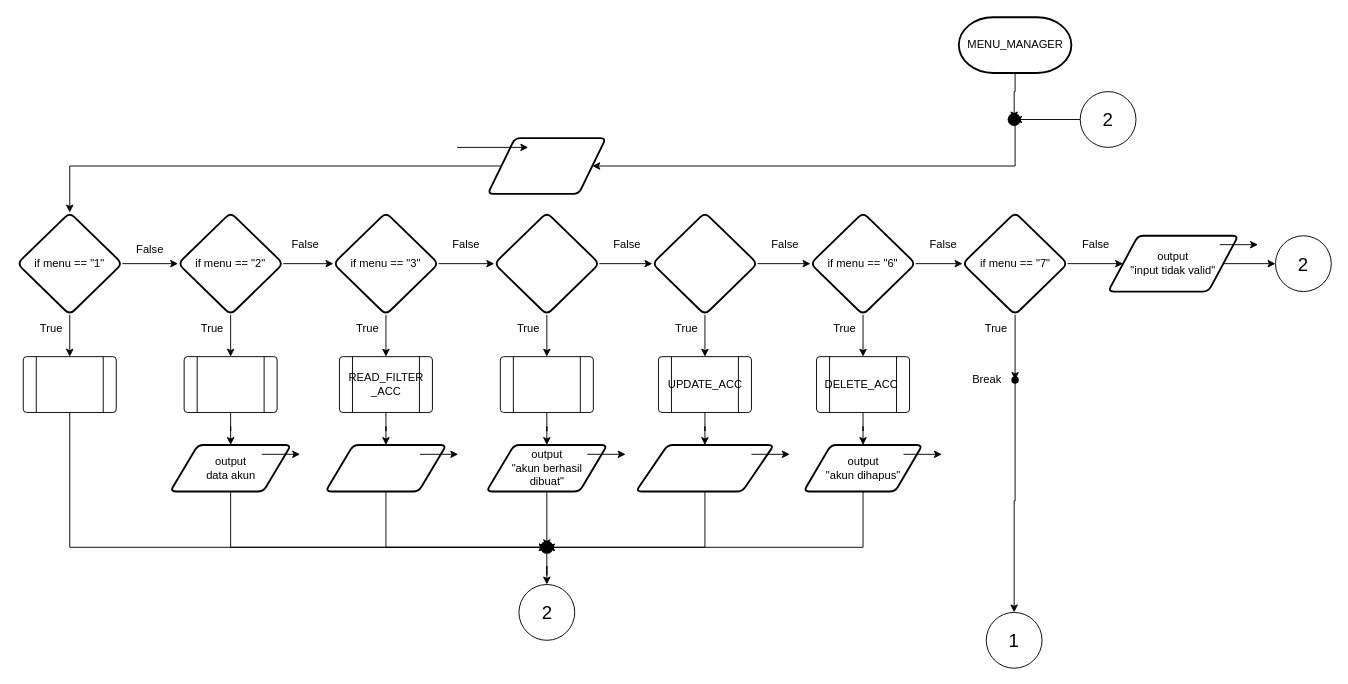
This 1348x684 diagram has some shape labels left out. Here are the shapes that lost their labels. From the top down, the centre of each, then its label:
point (546, 165): input menu
point (546, 263): if menu == "4"
point (704, 263): if menu == "5"
point (69, 384): MENU_ACTIVITY
point (230, 384): READ_ACC
point (546, 384): CREATE_ACC
point (385, 468): output filter_data akun
point (704, 468): output "password/role berhasil diubah"
